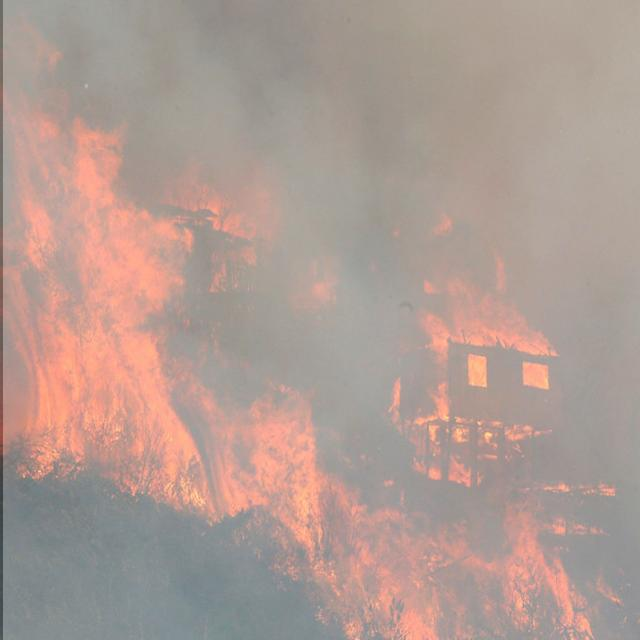Fire: (6, 122, 226, 515), (315, 494, 615, 640), (388, 268, 575, 473), (200, 376, 345, 598)
Smoke: (3, 0, 640, 640)
